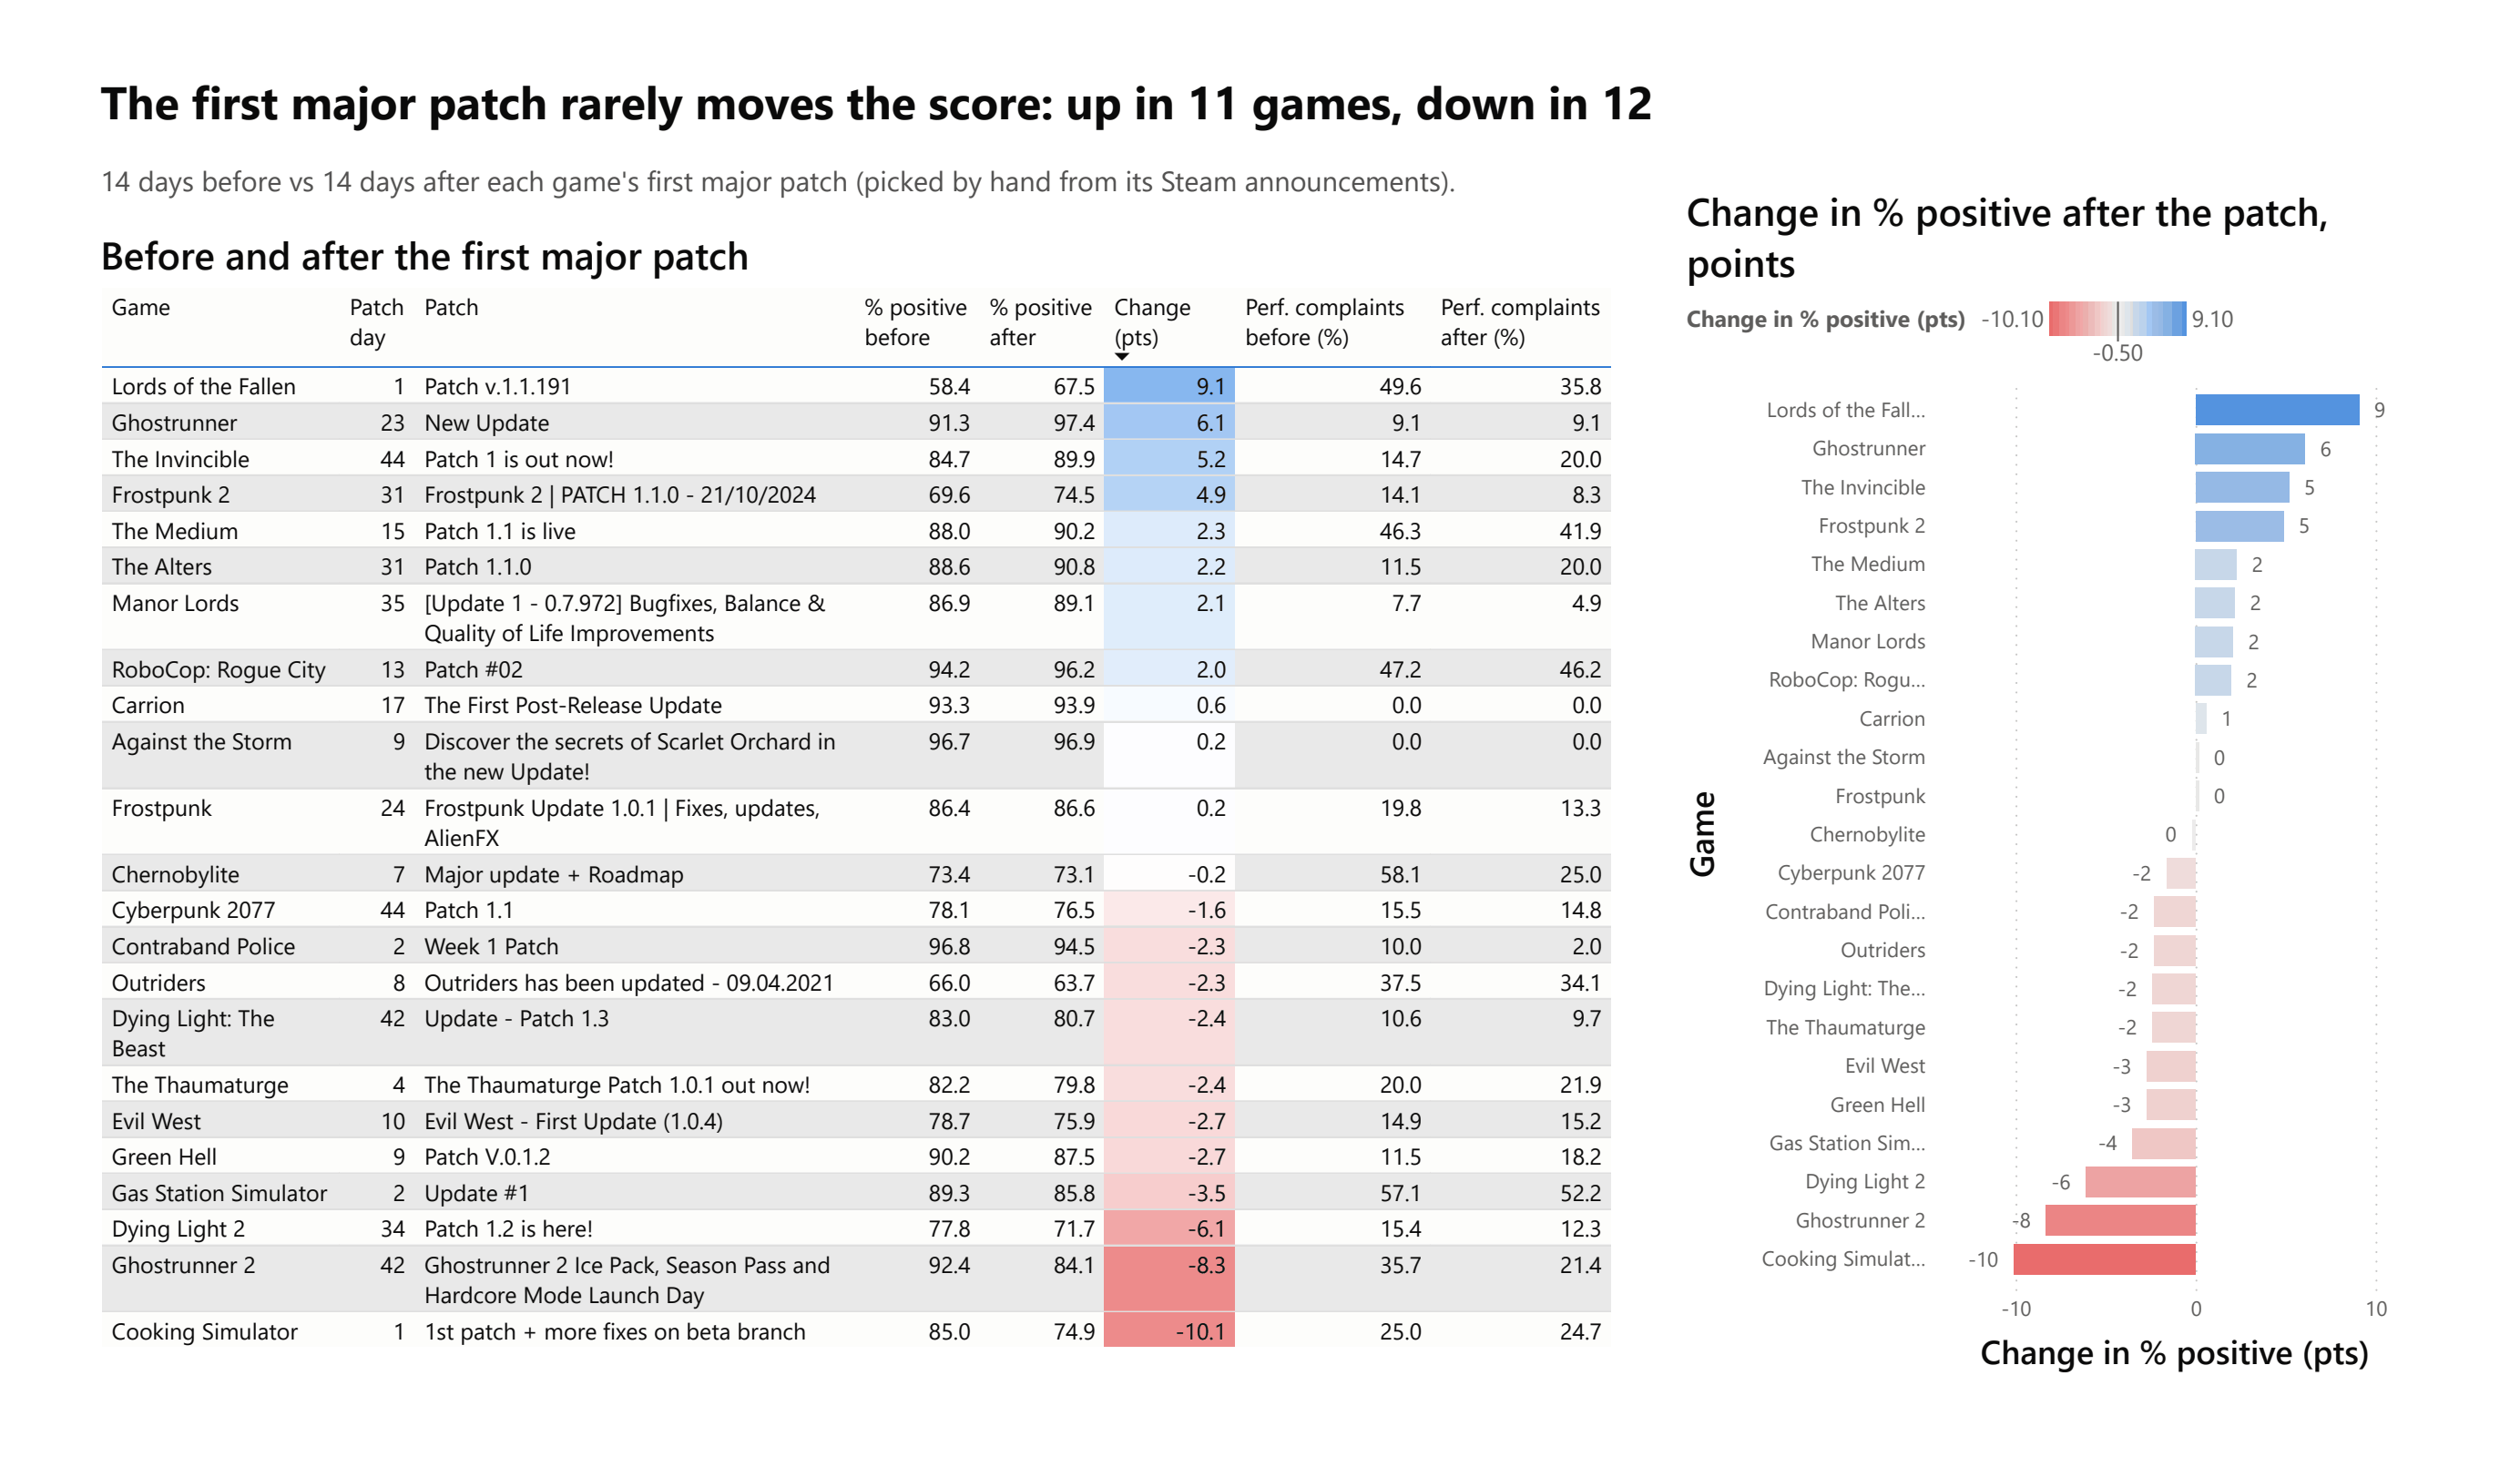

The page's visual inventory and layout, read from the dashboard file:
{"tool":"powerbi","page":{"name":"First patch","canvas":[1280,720],"ordinal":3},"visuals":[{"type":"textbox","box":[24,8,1232,52],"z":1000},{"type":"textbox","box":[24,56,1232,34],"z":2000},{"type":"tableEx","title":"Before and after the first major patch","fields":{"Values":["patch_effect.game","patch_effect.patch_day","patch_effect.patch_title","patch_effect.pct_positive_before","patch_effect.pct_positive_after","patch_effect.change_points","patch_effect.pct_neg_performance_before","patch_effect.pct_neg_performance_after"]},"box":[23.6,96.1,814.3,607.6],"z":3000},{"type":"clusteredBarChart","title":"Change in % positive after the patch, points","fields":{"Category":["patch_effect.game"],"Y":["Sum(patch_effect.change_points)"]},"box":[859.6,73.5,396.3,630.2],"z":4000}]}

Visuals, with their boxes on the page's 1280x720 design canvas (x1, y1, x2, y2). These are canvas units, not pixel positions in the 2520x1457 screenshot, which may show the page scaled, cropped or inside an application window:
textbox: box(24, 8, 1256, 60)
textbox: box(24, 56, 1256, 90)
"Before and after the first major patch" tableEx: box(24, 96, 838, 704)
"Change in % positive after the patch, points" clusteredBarChart: box(860, 74, 1256, 704)
